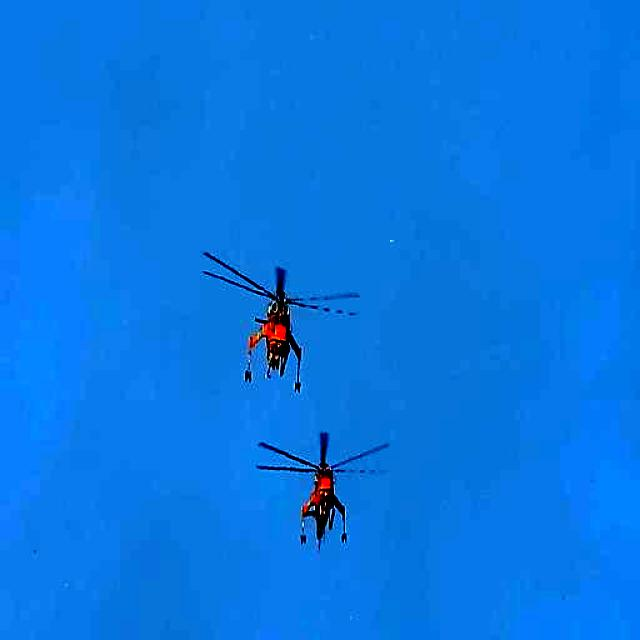drone: (201, 248, 361, 396), (256, 429, 391, 554)
